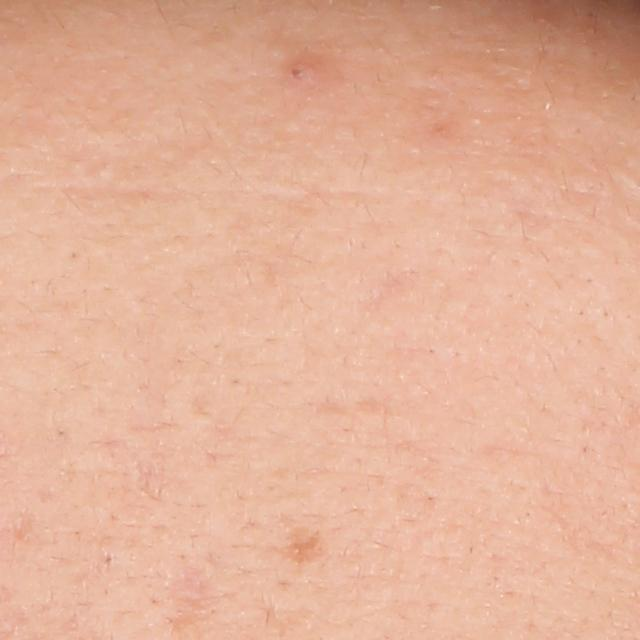papule: (285, 59, 327, 91)
